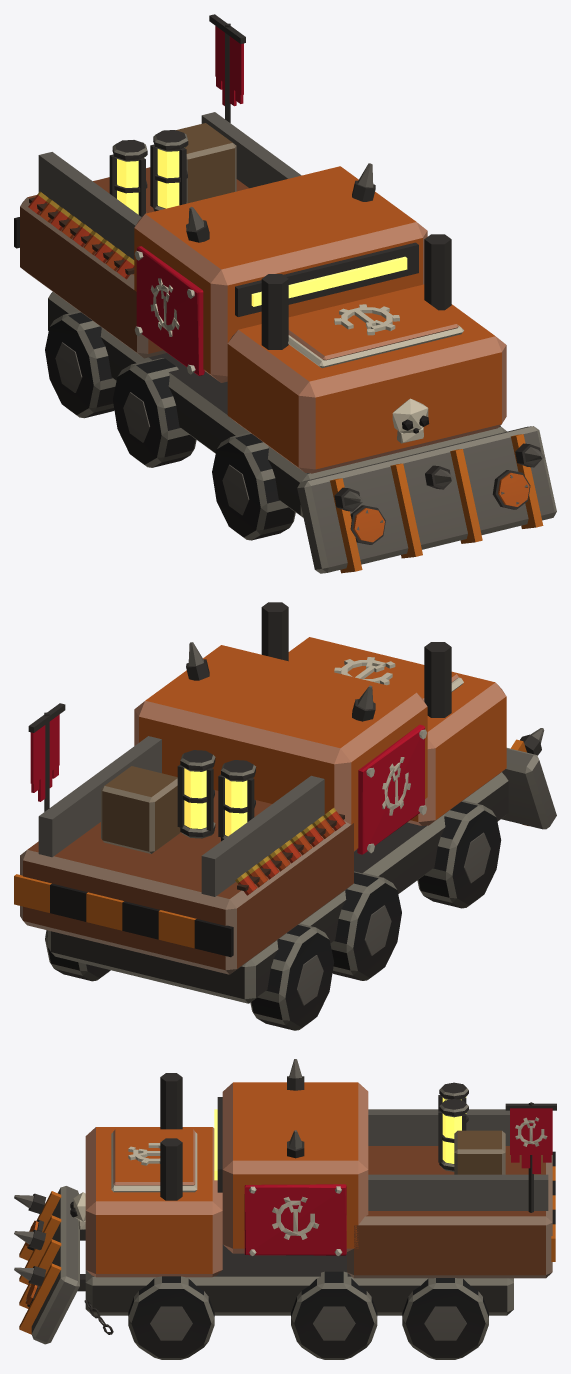
File: s_brute_truck.glb
3 renders of one model, top to bottom at view 1: azimuth 30°, elevation 25°; view 2: azimuth 150°, elevation 25°; view 3: azimuth 270°, elevation 25°, orthographic. The views are drawn at different scales.
Visible parts, largest first — view 1: s_brute_truck; view 2: s_brute_truck; view 3: s_brute_truck.
Part boxes in pixels (x1,y1,x2,y2): s_brute_truck: (14, 14, 556, 573); s_brute_truck: (14, 602, 556, 1030); s_brute_truck: (14, 1059, 556, 1359).
Size of the model in its own units: 2.68 by 3.17 by 6.34.
